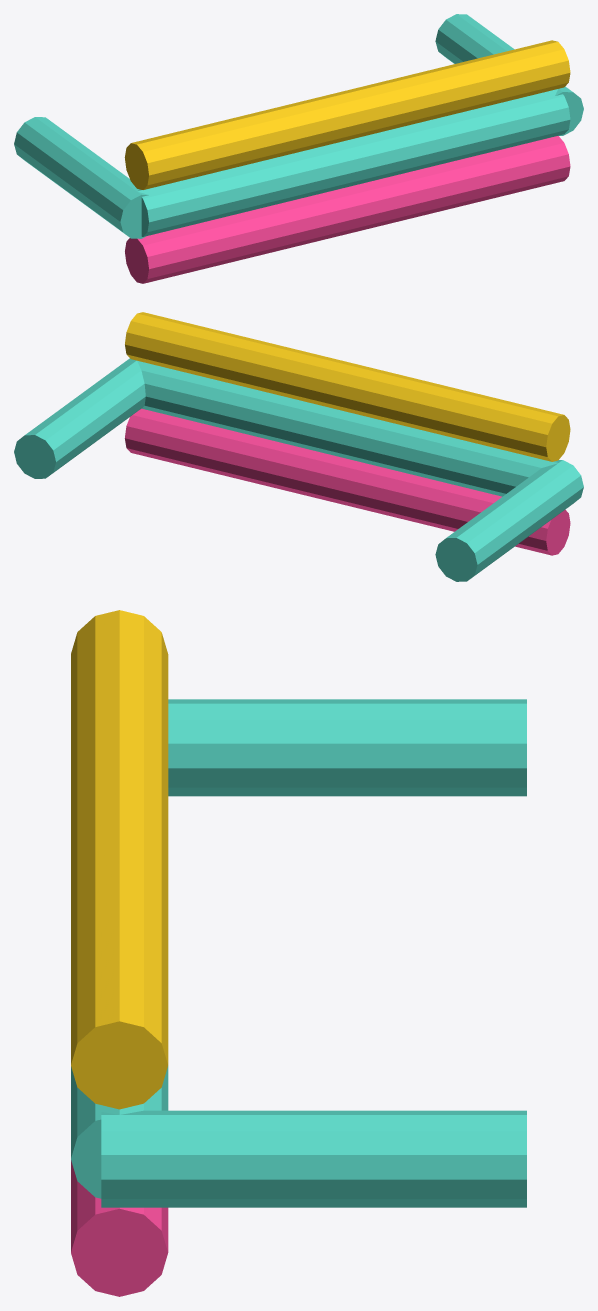
Rendered from upgrade-noodle_bumper.glb.
3 views of the same model, one above another, from view 1: azimuth 30°, elevation 25°; view 2: azimuth 150°, elevation 25°; view 3: azimuth 270°, elevation 25° (orthographic). The views are drawn at different scales.
Visible parts, largest first — view 1: upgrade-noodle_bumper; view 2: upgrade-noodle_bumper; view 3: upgrade-noodle_bumper.
Part boxes in pixels (<box>): upgrade-noodle_bumper: <box>14,14,583,283</box>; upgrade-noodle_bumper: <box>14,312,583,581</box>; upgrade-noodle_bumper: <box>71,610,526,1296</box>.
Bounding box in the file's own units: 1.76 × 0.5 × 0.75.
